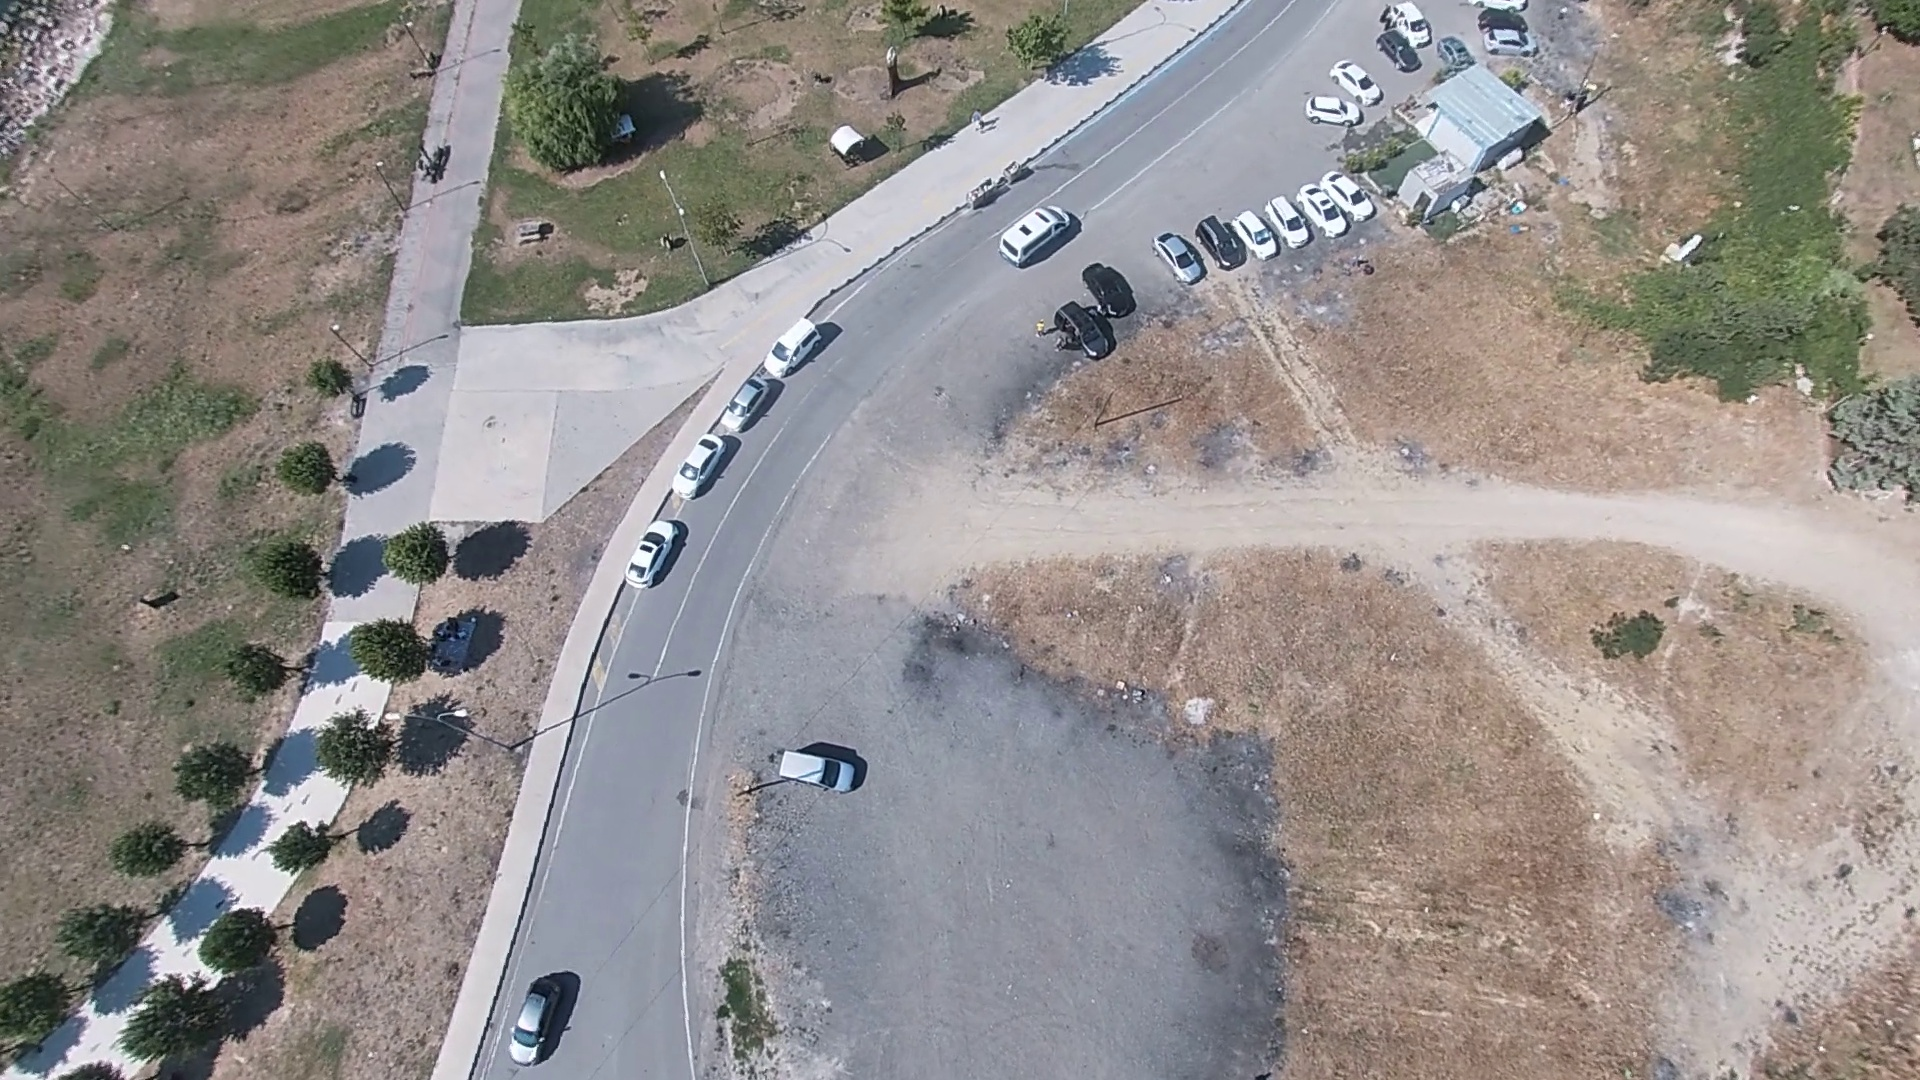arac: (658, 313, 836, 509), (506, 968, 578, 1067), (1000, 196, 1085, 268), (770, 742, 872, 795), (625, 513, 684, 595), (1151, 229, 1207, 281), (829, 124, 884, 169), (137, 589, 182, 611)
